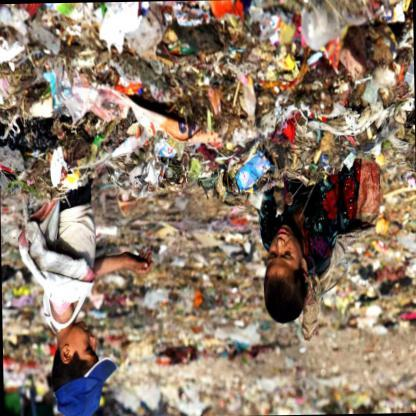Garbage: (121, 0, 261, 188), (279, 0, 416, 161), (3, 2, 107, 176)
